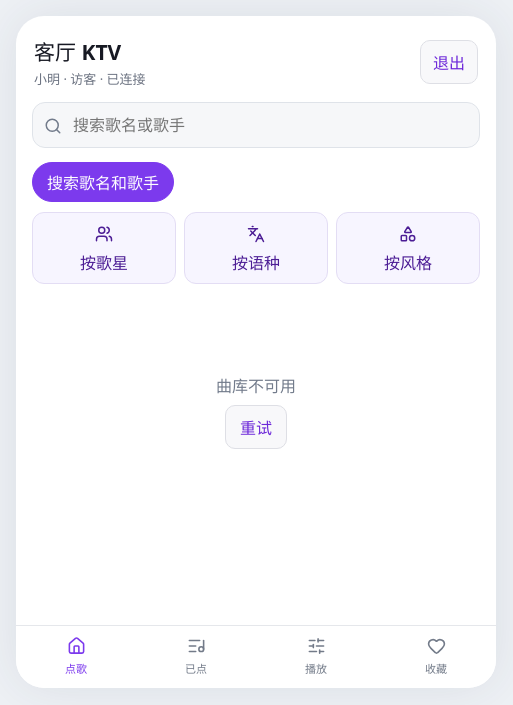
mobile application shell › shows catalog failure and retries
Expected: the message shows "曲库不可用", [216,375,296,397]
What coordinates should you click on to do the following:
click the button "重试"
I would click on:
 (256, 427)
Its box is [225,405,287,449].
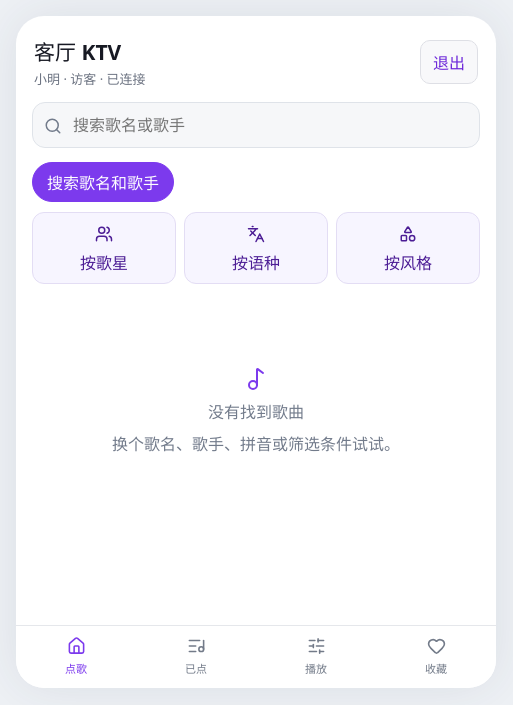
Expected: the text "没有找到歌曲" is shown, [208,399,304,423]
